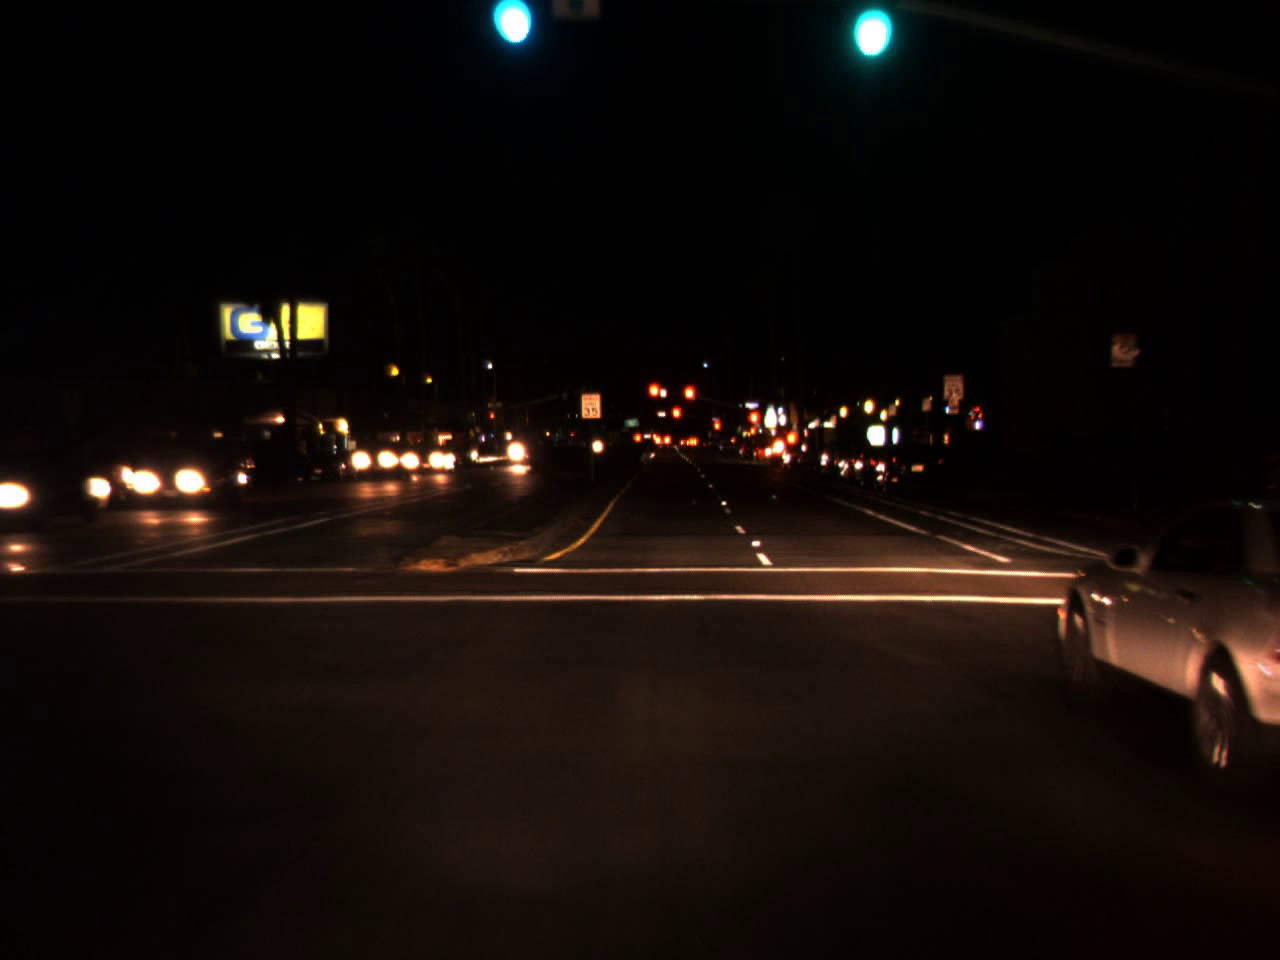go: (848, 0, 891, 67), (488, 0, 534, 54)
stop: (646, 381, 662, 413), (682, 384, 697, 416), (669, 404, 682, 433), (746, 410, 759, 439), (710, 418, 722, 442), (489, 413, 495, 423)
